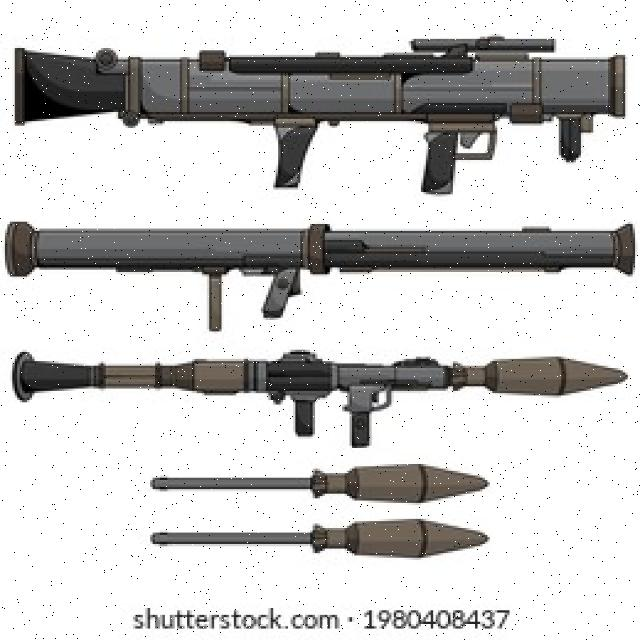bazooka: (14, 26, 640, 206), (1, 215, 640, 335), (1, 349, 640, 457)
